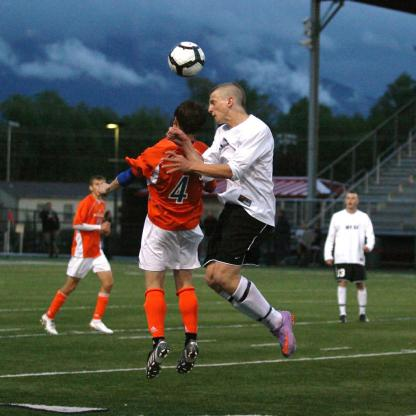face: (209, 94, 229, 125), (94, 180, 108, 198), (347, 194, 358, 209)
